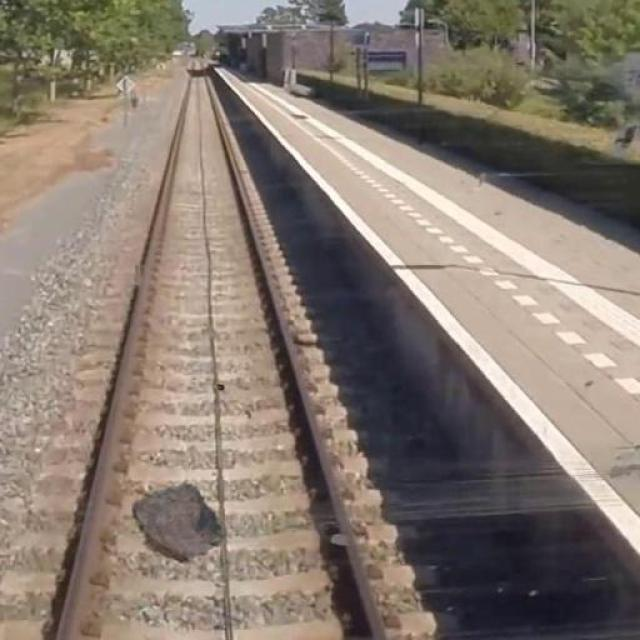Stone: (130, 478, 232, 561)
